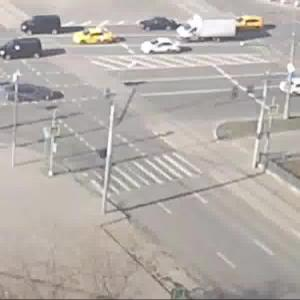car: (176, 18, 237, 47), (5, 80, 53, 105), (1, 36, 45, 62), (24, 15, 67, 39), (76, 24, 116, 49), (139, 11, 177, 33), (277, 71, 300, 105), (142, 38, 182, 57), (232, 11, 263, 32)
